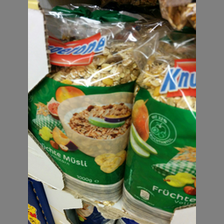cereal: (28, 14, 159, 199), (120, 45, 197, 220)
